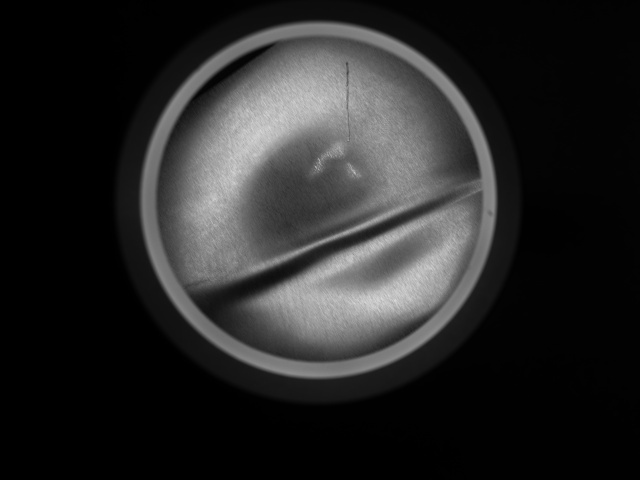ca_shang: (341, 61, 361, 147)
zhe_zhou: (193, 70, 444, 330)
